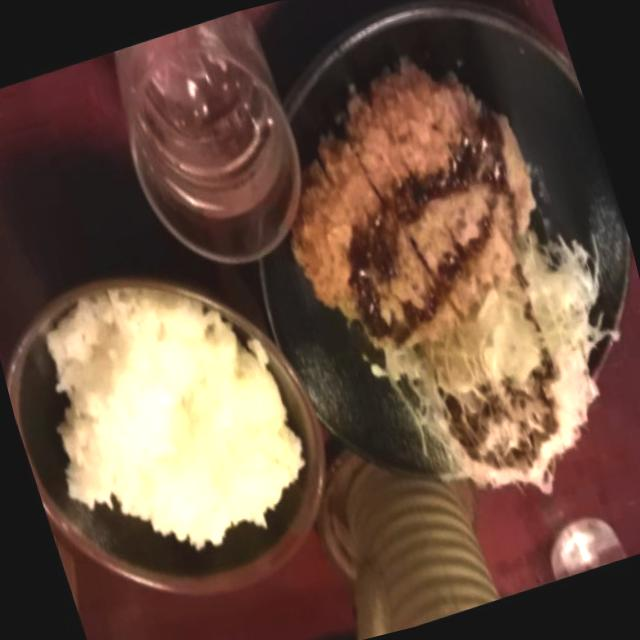Rice: (14, 254, 337, 602)
